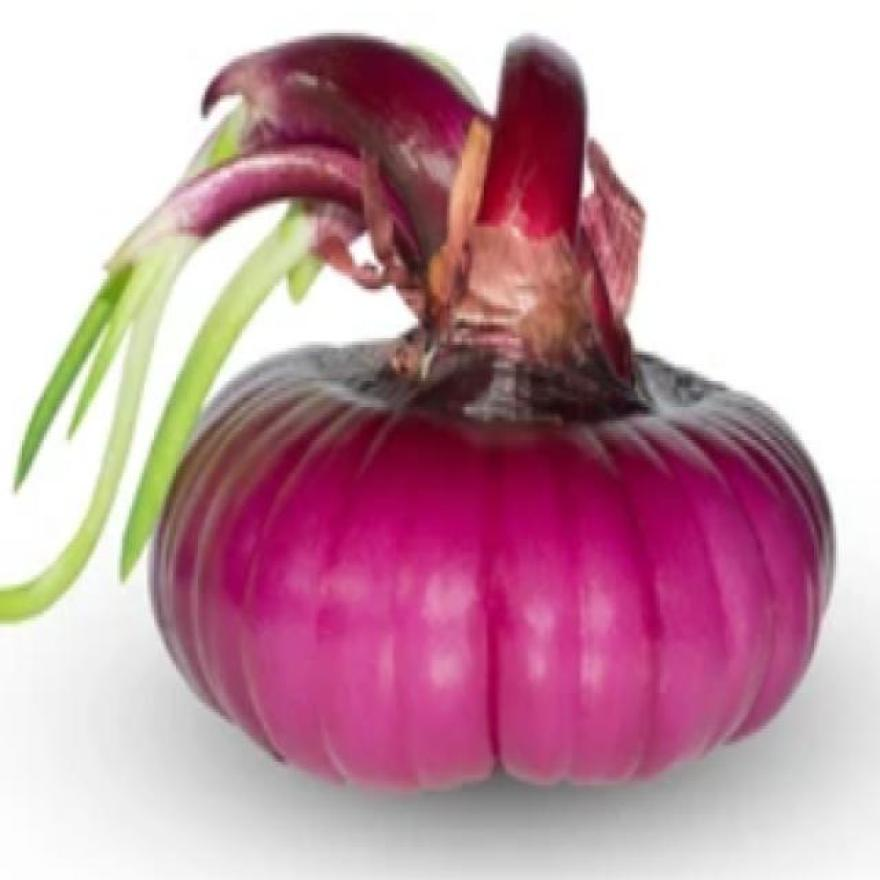Sprouted: (0, 21, 652, 416)
